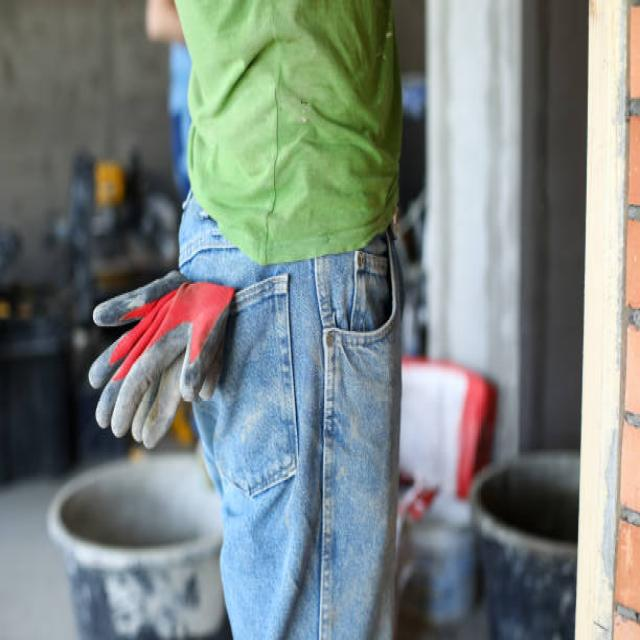gloves: (86, 264, 235, 452)
